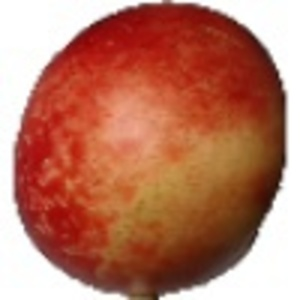nectarina: (11, 1, 289, 300)
